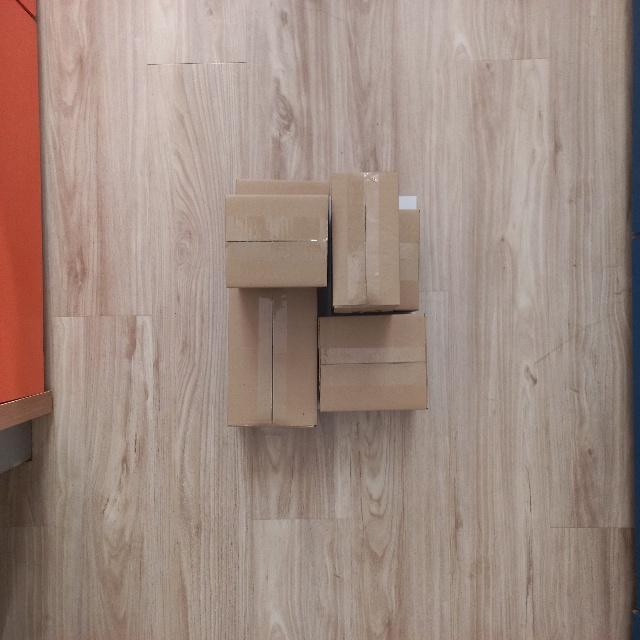box: (222, 290, 322, 432), (318, 312, 432, 416), (222, 192, 330, 294), (328, 169, 402, 315)
